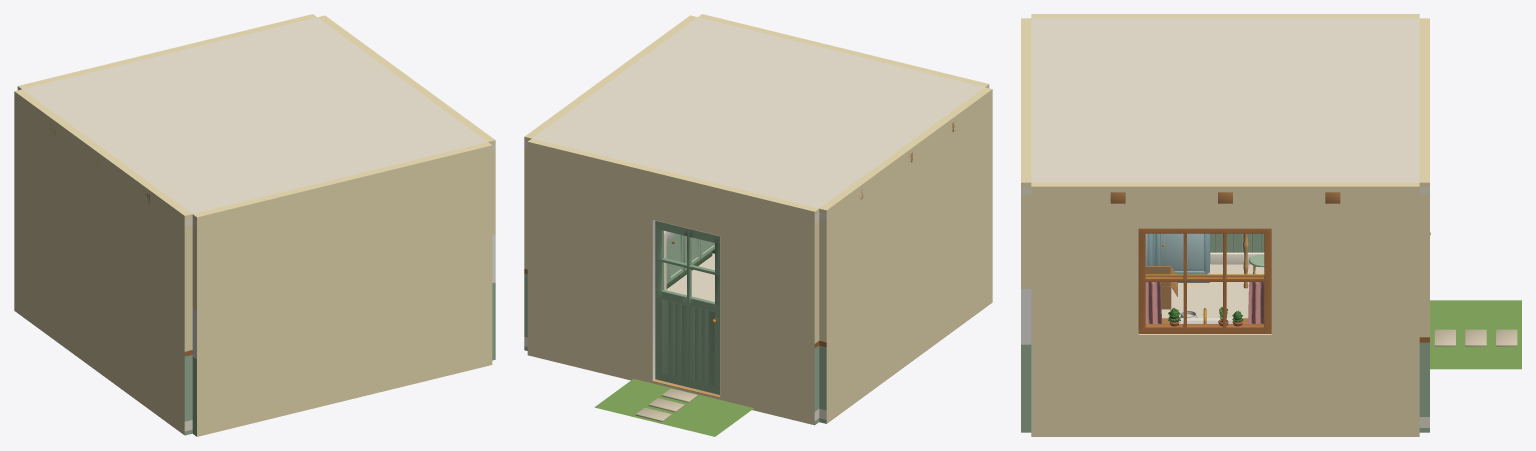
The model's file is room_baked_d.glb.
The picture shows the model from 3 angles, left to right: view 1: azimuth 30°, elevation 25°; view 2: azimuth 150°, elevation 25°; view 3: azimuth 270°, elevation 25°; orthographic projection. The views are drawn at different scales.
Parts seen in each view (by area): view 1: shell_walls_south, shell_ceiling, shell_walls_west, shell_walls_east, shell_walls; view 2: shell_walls, shell_ceiling, shell_walls_west, door, outdoor_ground, shell_walls_east, counter_e, shell_walls_south, door_frame, shell_floor; view 3: shell_walls_east, shell_ceiling, outdoor_ground, window_frame, shell_walls_south, shell_walls, shell_walls_west, shell_floor, dresser, curtains, box_cat, shell_beams.
Boxes of the visible parts, <box> form: shell_walls_south: <box>192,142,492,436</box>; shell_ceiling: <box>22,17,487,213</box>; shell_walls_west: <box>14,89,192,435</box>; shell_walls_east: <box>318,15,495,360</box>; shell_walls: <box>17,14,316,90</box>; shell_walls: <box>527,138,819,425</box>; shell_ceiling: <box>532,17,984,208</box>; shell_walls_west: <box>819,87,992,423</box>; door: <box>655,221,719,394</box>; outdoor_ground: <box>594,379,753,436</box>; shell_walls_east: <box>524,15,697,350</box>; counter_e: <box>666,231,714,288</box>; shell_walls_south: <box>698,14,989,87</box>; door_frame: <box>652,219,720,397</box>; shell_floor: <box>666,253,714,301</box>; shell_walls_east: <box>1031,182,1419,436</box>; shell_ceiling: <box>1031,18,1419,182</box>; outdoor_ground: <box>1430,300,1521,369</box>; window_frame: <box>1138,228,1271,333</box>; shell_walls_south: <box>1021,18,1031,432</box>; shell_walls: <box>1419,18,1429,432</box>; shell_walls_west: <box>1031,14,1419,264</box>; shell_floor: <box>1161,264,1264,323</box>; dresser: <box>1145,233,1209,282</box>; curtains: <box>1145,274,1264,323</box>; box_cat: <box>1145,266,1177,309</box>; shell_beams: <box>1110,192,1340,203</box>.
Bounding box in the file's own units: 4 × 2.7 × 4.9.
